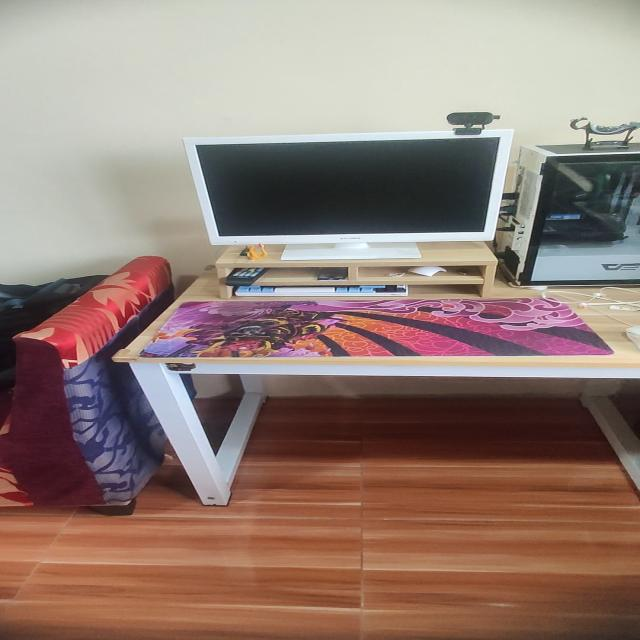table: (112, 257, 640, 510)
